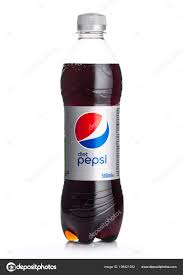bottle: (62, 13, 125, 247)
pepsi: (71, 112, 112, 169)
plastic: (61, 12, 123, 246)
